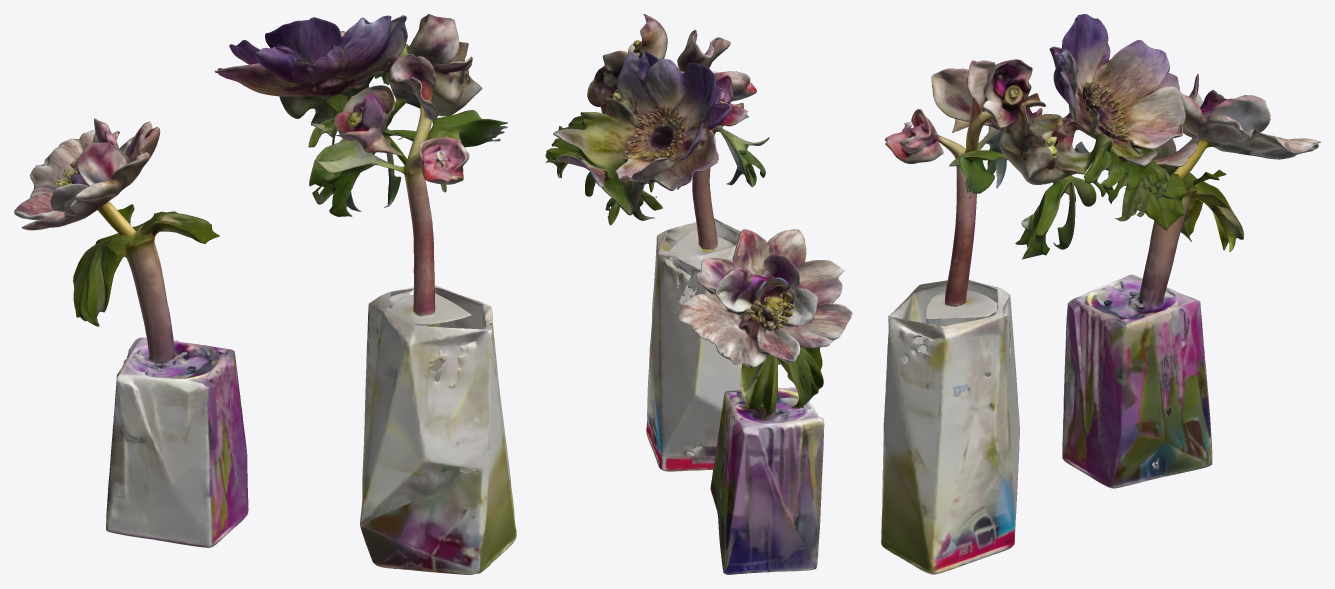
File: crystalsmall.glb
3 renders of one model, left to right at view 1: azimuth 30°, elevation 25°; view 2: azimuth 150°, elevation 25°; view 3: azimuth 270°, elevation 25°, orthographic. The views are drawn at different scales.
Visible parts, largest first — view 1: geometry_0; view 2: geometry_0; view 3: geometry_0.
Part boxes in pixels (bbox=[...]): geometry_0: bbox=[14, 14, 516, 574]; geometry_0: bbox=[545, 14, 852, 574]; geometry_0: bbox=[881, 14, 1320, 574].
Bounding box in the file's own units: 0.7669 × 0.9988 × 0.7997.
1 material, 1 textured.
